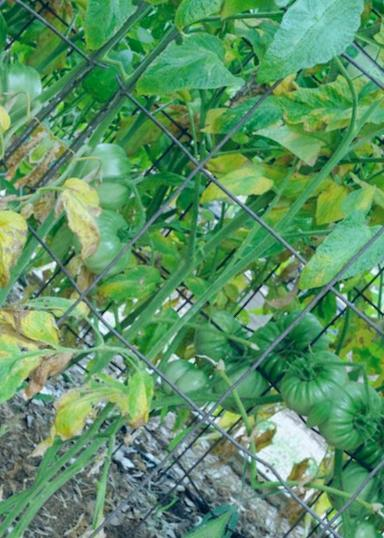Tomato Early blight leaf: (19, 339, 180, 503), (0, 286, 84, 450), (28, 171, 134, 277), (0, 194, 50, 337), (197, 150, 277, 231), (302, 173, 363, 235)
Tomato leaf: (132, 12, 247, 129), (236, 2, 346, 114), (211, 0, 292, 18)
